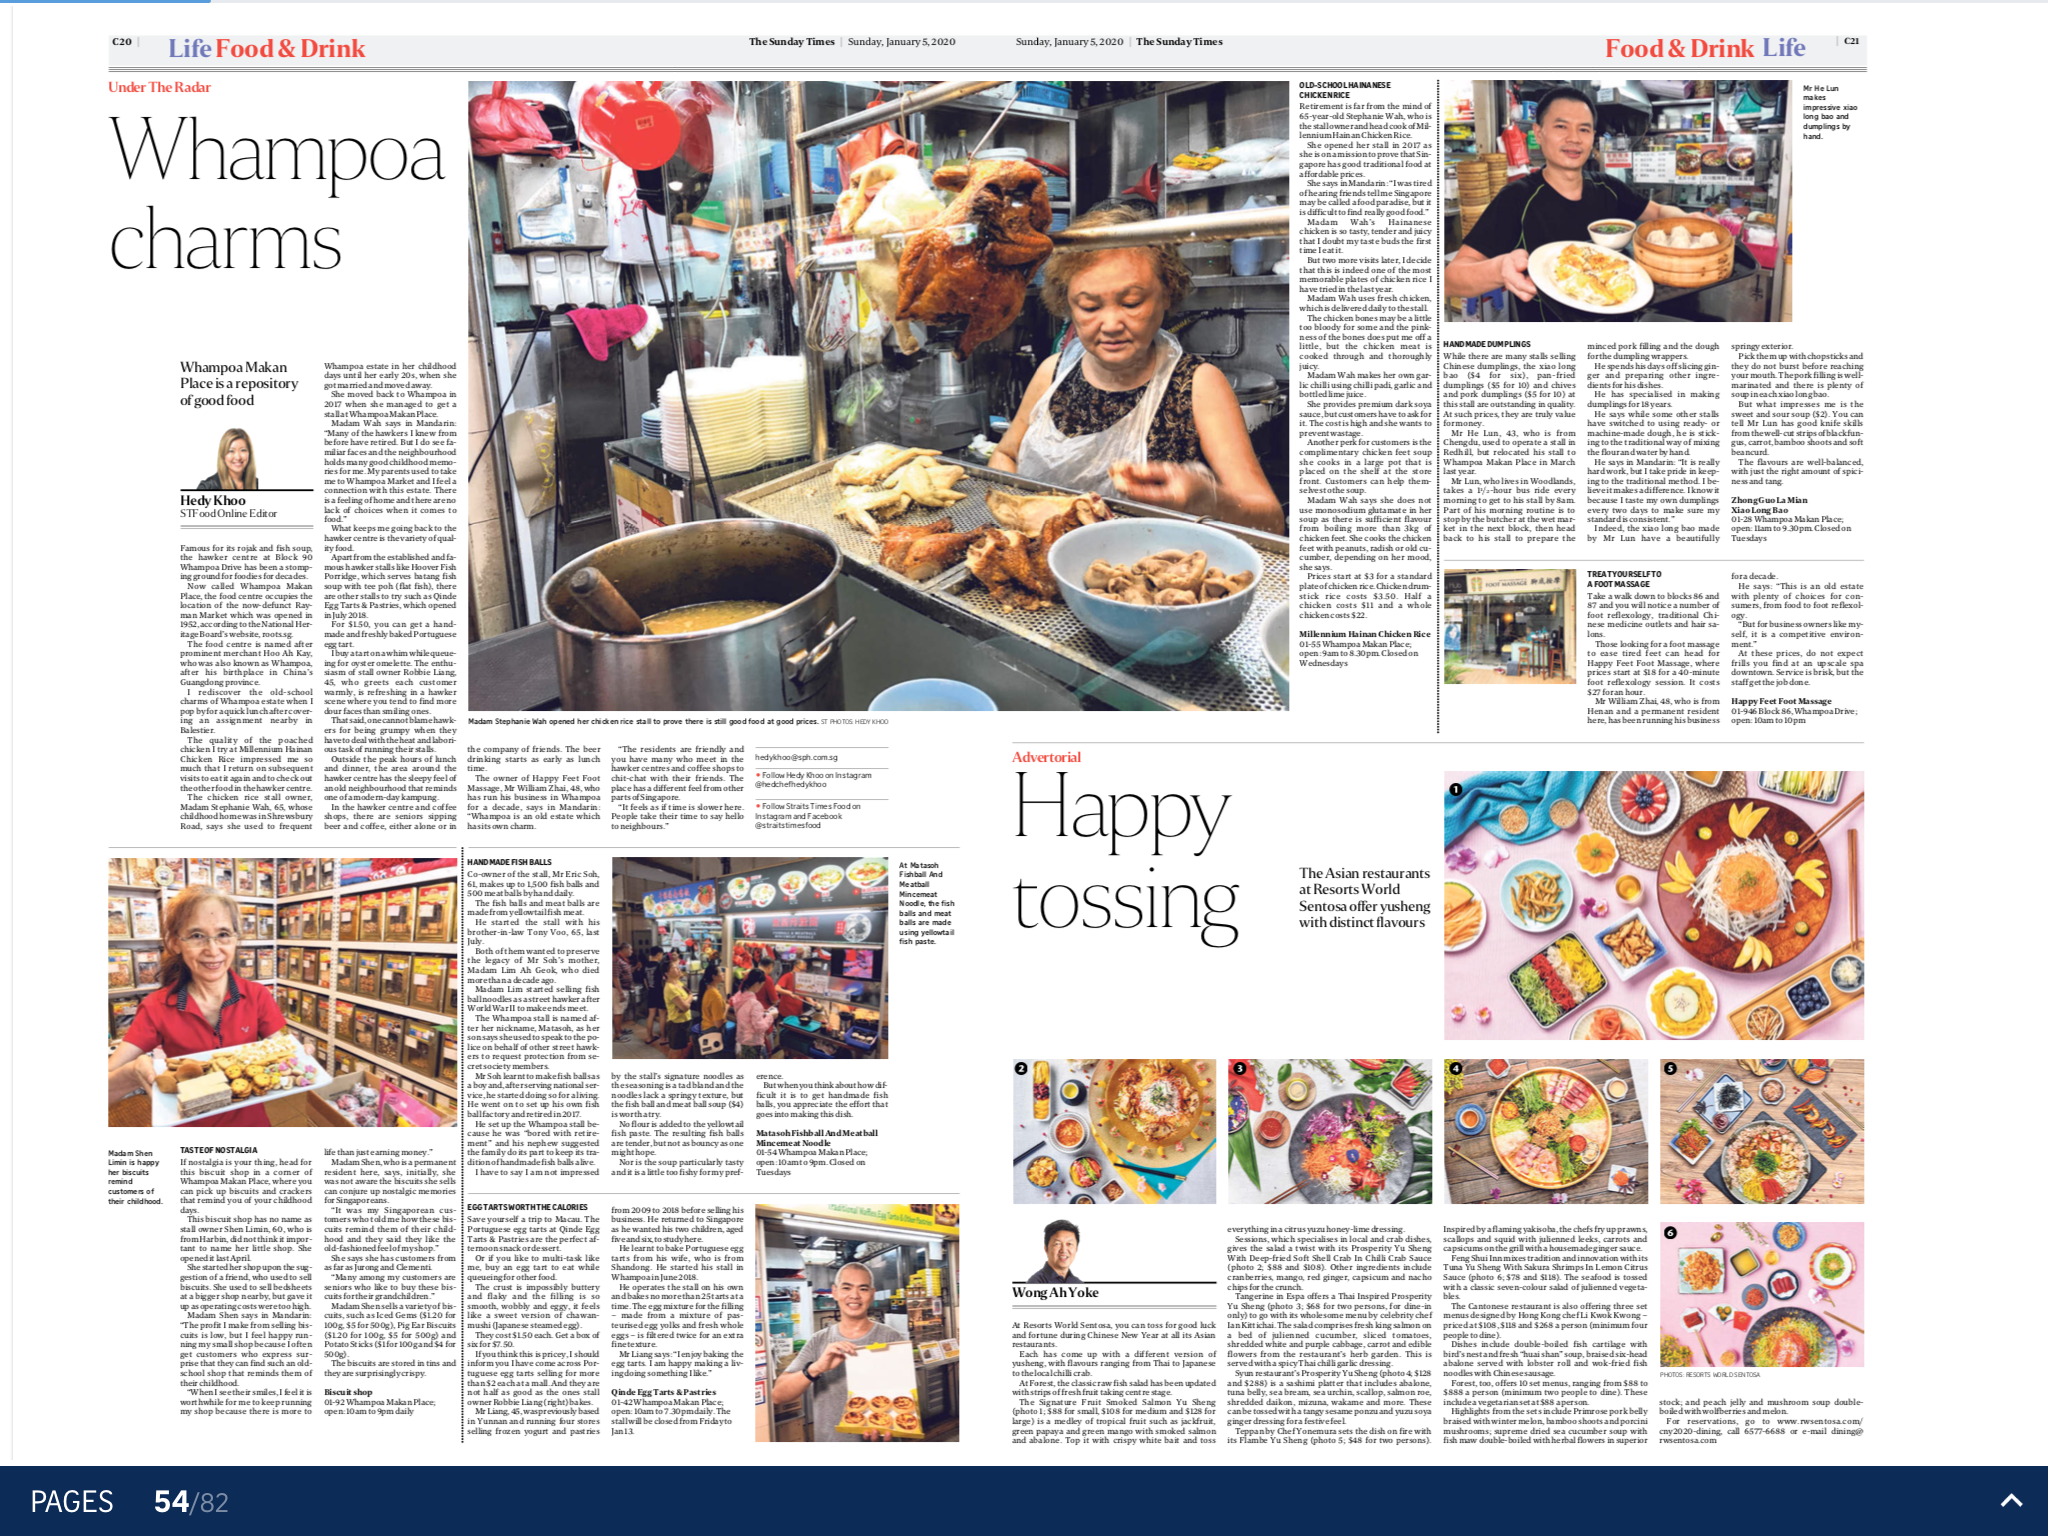Byline: (177, 490, 281, 523), (1009, 1284, 1101, 1304)
Headline: (102, 98, 448, 286), (1009, 763, 1255, 954)
Illustration: (1295, 857, 1438, 939), (463, 710, 901, 736), (102, 1141, 168, 1217), (1800, 79, 1859, 148), (1655, 1363, 1767, 1384)
Image: (469, 82, 1288, 710), (1443, 770, 1864, 1037), (105, 857, 456, 1129), (1440, 77, 1795, 323), (613, 855, 889, 1058), (756, 1204, 959, 1442), (1011, 1058, 1216, 1205), (1661, 1221, 1866, 1368), (1659, 1058, 1864, 1204), (1445, 1060, 1651, 1204), (1229, 1058, 1432, 1204), (1445, 570, 1579, 686), (187, 423, 269, 499), (1018, 1220, 1105, 1288)
Text: (1295, 74, 1435, 679), (318, 355, 464, 837), (1435, 1218, 1655, 1454), (1222, 1220, 1438, 1452), (461, 854, 610, 1184), (173, 537, 319, 837), (176, 1137, 319, 1423), (319, 1137, 461, 1420), (461, 1192, 606, 1442), (606, 1202, 747, 1446), (1725, 332, 1875, 557), (1437, 332, 1584, 557), (1580, 332, 1730, 552), (1006, 1309, 1221, 1452), (1725, 565, 1867, 733), (1580, 566, 1725, 729), (751, 1066, 901, 1181), (601, 1066, 748, 1181), (606, 737, 748, 845), (460, 737, 608, 837), (1651, 1391, 1875, 1454)
